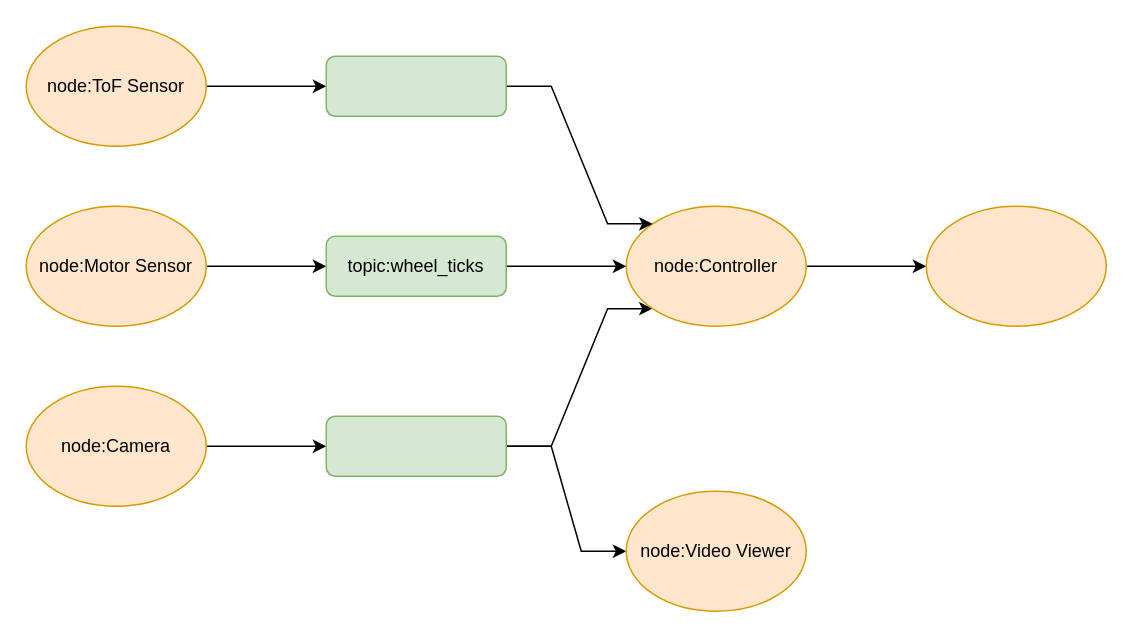
This 1133x638 diagram has some shape labels left out. The shapes that lost their labels are listed below. From the top down, each one's box as (x1, y1, x2, y2) in pixels, then its label:
(325, 55, 506, 116): topic:distance
(925, 205, 1106, 326): node:Motor Actuator
(325, 415, 506, 476): topic:raw_image
